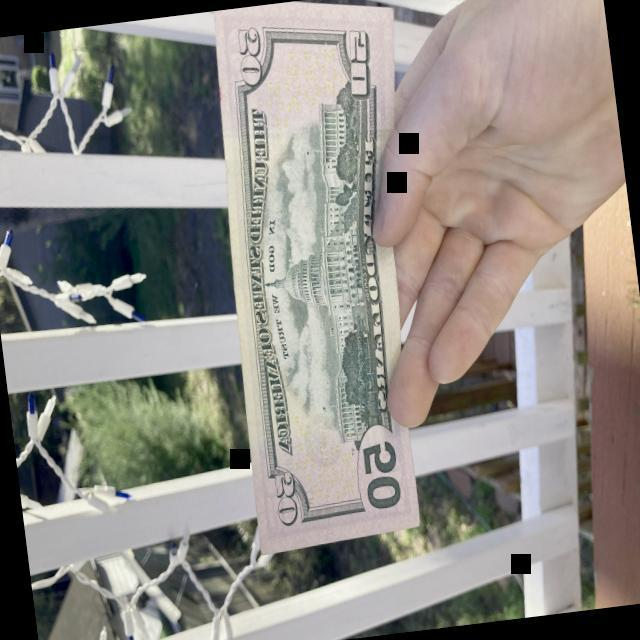fifty: (212, 2, 419, 555)
